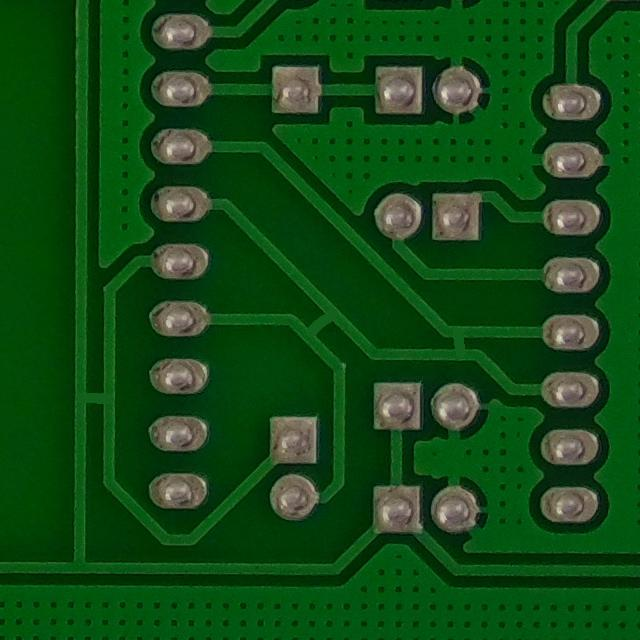short: (282, 279, 358, 362)
